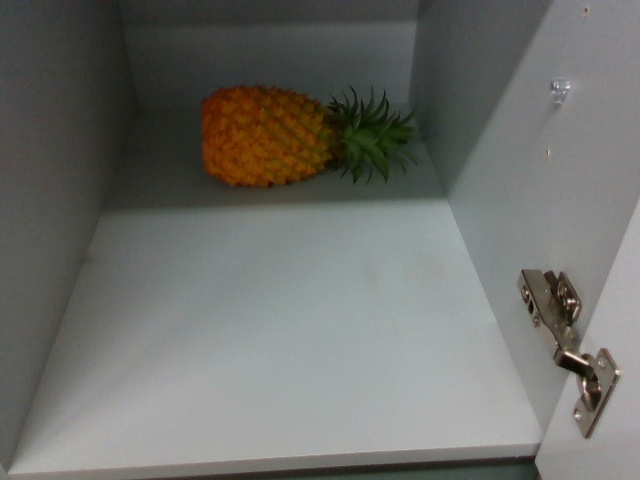pineapple: (192, 72, 424, 189)
